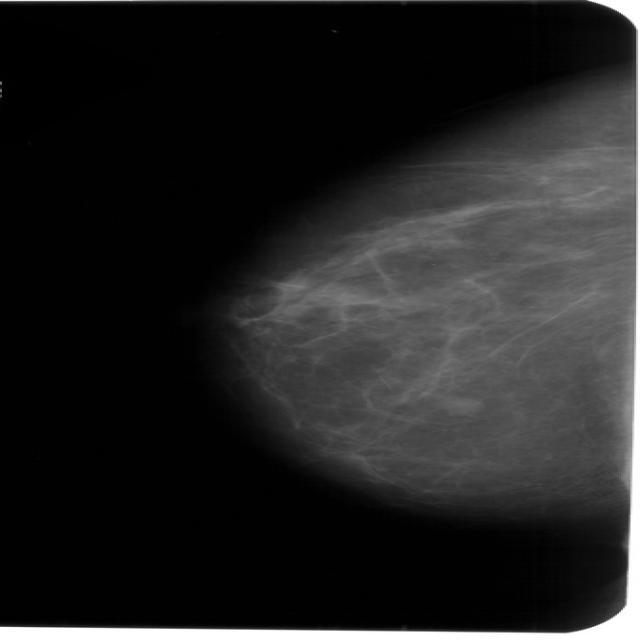tumour: (432, 394, 479, 415)
